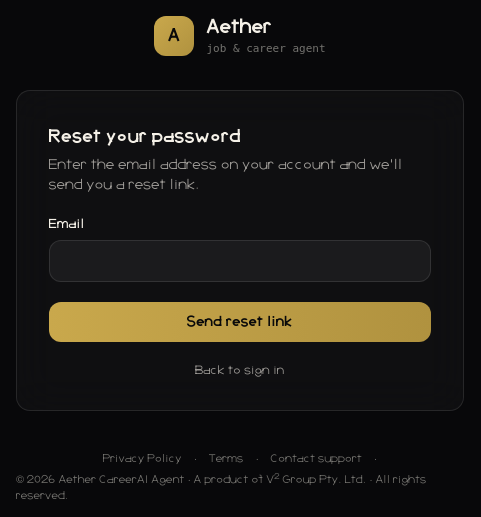
Test: ForgotPasswordClient › shows the honest 'not configured' + support-contact state when emailSendingEnabled=false
In the field labelled "Email": coordinates (240, 261) [49,240,431,282], type "user@example.com"
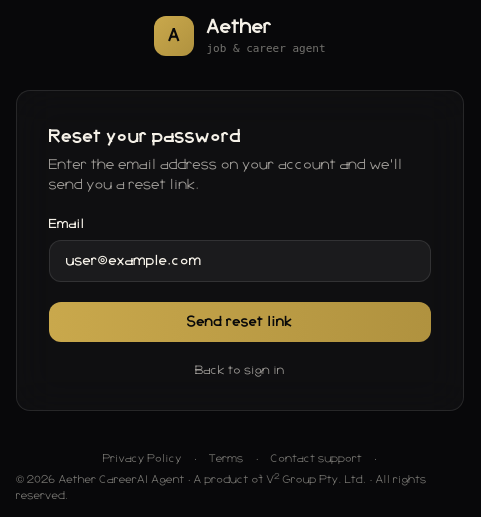
Click the button "Send reset link": coordinates (240, 322) [49,302,431,342]
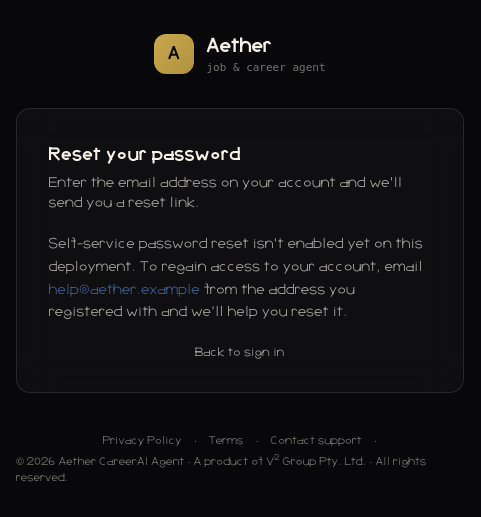
Check: the message with test id "forgot-password-not-configured" is shown, box [49,233,431,324]
Check: the message with test id "forgot-password-not-configured" shows "help@aether.example", box [49,282,200,296]
